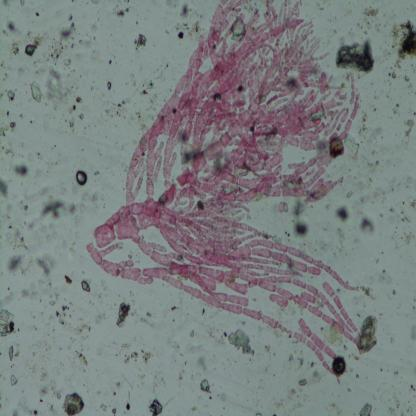Air bubble: (76, 168, 87, 186)
Background material: (105, 75, 163, 127), (336, 36, 377, 76), (356, 148, 386, 202), (44, 24, 78, 68), (385, 206, 416, 252), (220, 323, 256, 359), (44, 67, 72, 110), (393, 19, 416, 69), (5, 231, 30, 273), (288, 198, 312, 241), (176, 2, 202, 39), (50, 296, 77, 328), (360, 314, 380, 356), (40, 197, 78, 219), (38, 370, 62, 401), (119, 346, 154, 366), (320, 318, 344, 347), (331, 135, 360, 159), (75, 191, 102, 215), (0, 302, 18, 338), (191, 351, 215, 377), (62, 391, 85, 416), (34, 252, 57, 277), (11, 396, 38, 416), (114, 298, 132, 328), (22, 216, 46, 237), (285, 354, 309, 374), (73, 348, 89, 372), (145, 368, 162, 390), (23, 36, 40, 57), (334, 204, 350, 226), (0, 119, 16, 140), (359, 218, 374, 238), (359, 110, 369, 140), (403, 118, 416, 140), (362, 5, 381, 20), (29, 82, 42, 103), (4, 20, 21, 36), (12, 162, 30, 177), (136, 310, 158, 322), (149, 396, 163, 414), (7, 343, 21, 361), (135, 34, 150, 49), (10, 39, 21, 59), (81, 274, 91, 295), (5, 86, 17, 102), (358, 402, 372, 415), (116, 5, 130, 18), (200, 379, 212, 394), (178, 367, 190, 381), (63, 271, 73, 286), (72, 97, 82, 111), (0, 179, 8, 196), (393, 104, 402, 119), (386, 70, 396, 82), (404, 72, 412, 86), (122, 401, 132, 412), (297, 376, 308, 386), (91, 168, 100, 180), (9, 374, 18, 386), (98, 401, 107, 412), (187, 328, 196, 339), (110, 403, 117, 415), (68, 120, 76, 130), (78, 111, 86, 121), (106, 80, 113, 91), (168, 306, 178, 312), (24, 202, 28, 215)
Diatom: (332, 356, 347, 377)
